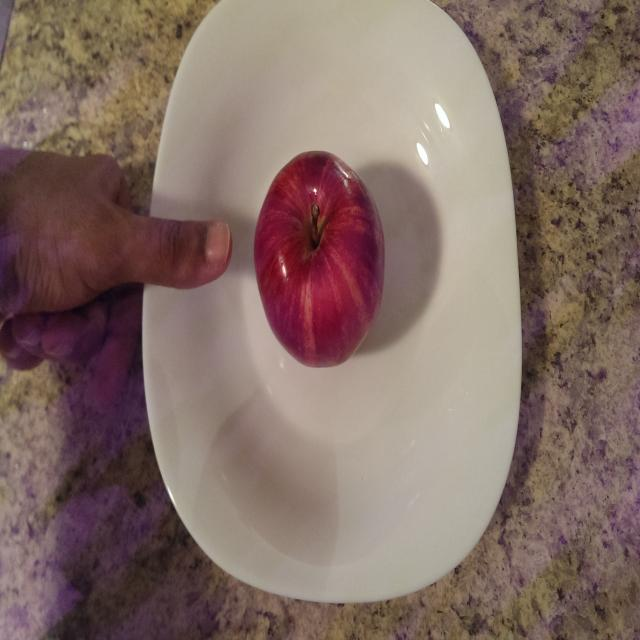apple: (252, 138, 399, 392)
